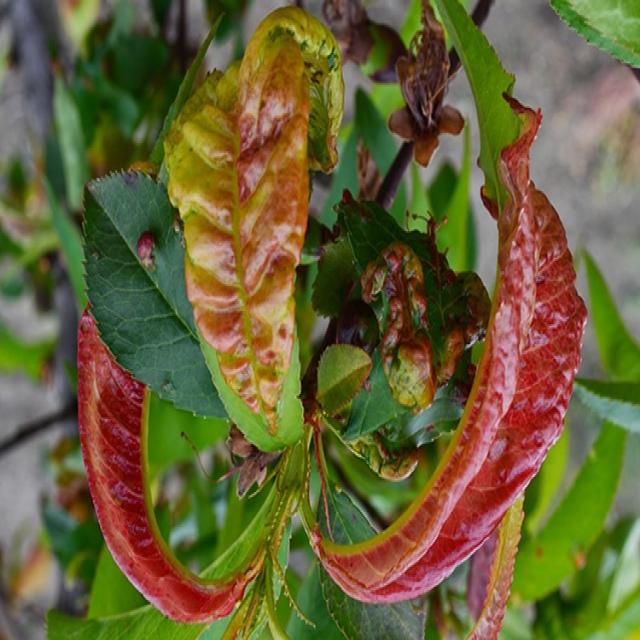peach_leaf_curl: (300, 90, 588, 607)
